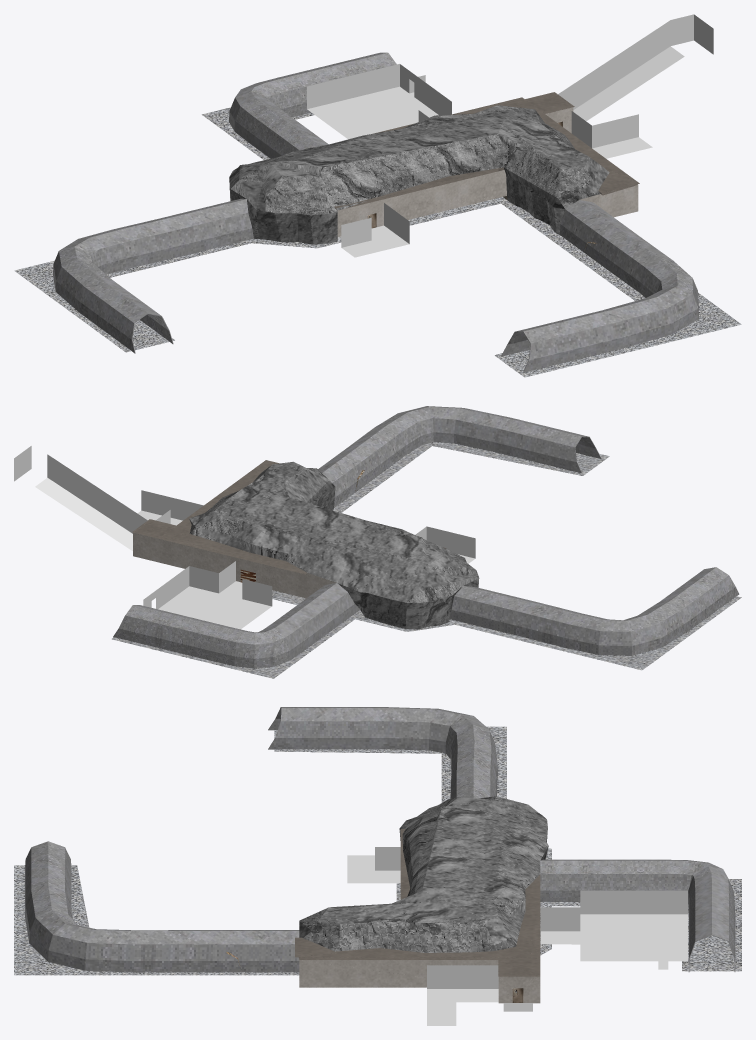
The model's file is MAP_Train_Station.glb.
3 views of the same model, one above another, from view 1: azimuth 30°, elevation 25°; view 2: azimuth 150°, elevation 25°; view 3: azimuth 270°, elevation 25° (orthographic). The views are drawn at different scales.
Visible parts, largest first — view 1: Cave Ceiling, Extras, Tunnel2, Tunnel3, Gravel, Tunnel1, Station Floor & Walls, Cave, Station Ceiling; view 2: Cave Ceiling, Extras, Tunnel3, Tunnel2, Tunnel1, Gravel, Station Floor & Walls, Cave, Station Ceiling; view 3: Cave Ceiling, Tunnel2, Extras, Tunnel3, Tunnel1, Gravel, Station Ceiling, Station Floor & Walls.
Boxes of the visible parts, x1,y1,x2,y2 form: Cave Ceiling: (229, 105, 609, 215); Extras: (307, 14, 713, 257); Tunnel2: (501, 200, 698, 372); Tunnel3: (53, 198, 253, 353); Gravel: (14, 107, 741, 377); Tunnel1: (229, 52, 396, 158); Station Floor & Walls: (337, 95, 638, 236); Cave: (229, 174, 564, 244); Station Ceiling: (334, 92, 639, 210); Cave Ceiling: (189, 461, 478, 603); Extras: (14, 446, 475, 629); Tunnel3: (449, 567, 739, 655); Tunnel2: (318, 406, 601, 507); Tunnel1: (113, 583, 359, 668); Gravel: (111, 442, 741, 678); Station Floor & Walls: (133, 532, 336, 598); Cave: (312, 487, 479, 629); Station Ceiling: (132, 460, 446, 574); Cave Ceiling: (299, 796, 548, 952); Tunnel2: (25, 841, 299, 972); Extras: (347, 847, 687, 1025); Tunnel3: (268, 707, 497, 798); Tunnel1: (540, 859, 735, 972); Gravel: (14, 726, 741, 975); Station Ceiling: (295, 829, 540, 976); Station Floor & Walls: (299, 960, 540, 1003).
Size of what is drawn, in the model's own units: 107 by 11.77 by 94.14.
Materials: 36 (36 with a texture image).
